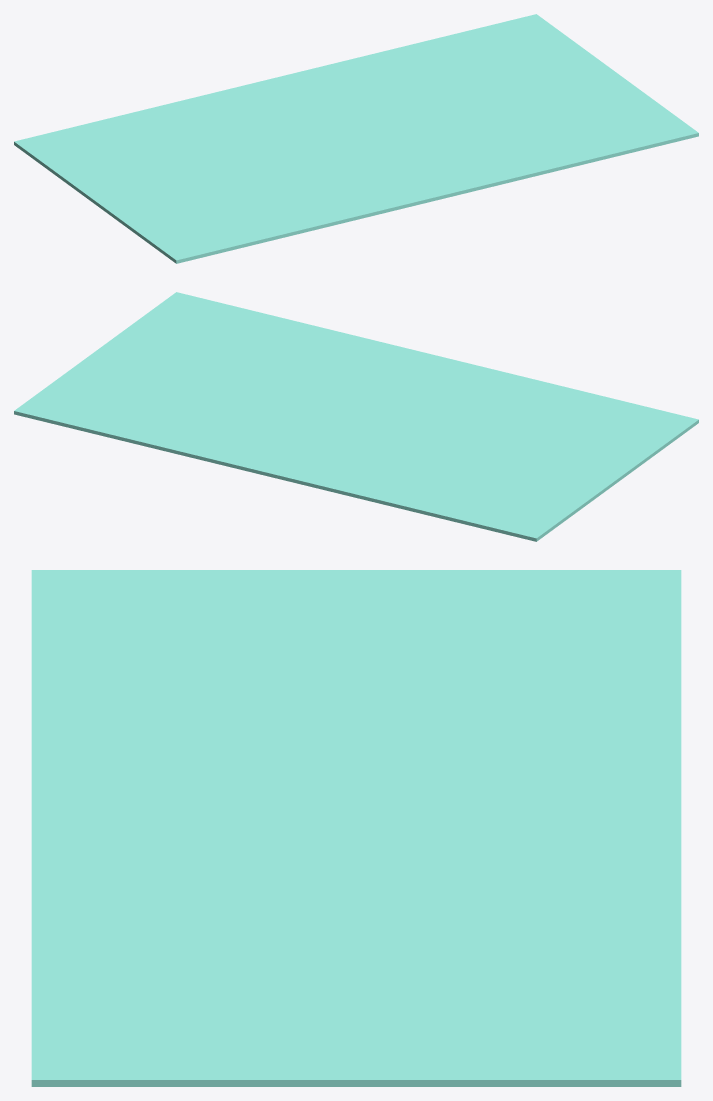
Rendered from brokenGlassSon.fbx.
The picture shows the model from 3 angles, top to bottom: view 1: azimuth 30°, elevation 25°; view 2: azimuth 150°, elevation 25°; view 3: azimuth 270°, elevation 25°; orthographic projection. The views are drawn at different scales.
Visible parts, largest first — view 1: Glass, Glass_cell.004, Glass_cell.001, Glass_cell.007, Glass_cell.009, Glass_cell.005, Glass_cell.006; view 2: Glass, Glass_cell.004, Glass_cell.001, Glass_cell.007, Glass_cell.005, Glass_cell.006, Glass_cell.009, Glass_cell.003, Glass_cell, Glass_cell.002; view 3: Glass, Glass_cell.004, Glass_cell.001, Glass_cell.007, Glass_cell.009, Glass_cell.006, Glass_cell.005, Glass_cell.008, Glass_cell.003, Glass_cell.
Part boxes in pixels (x1,y1,x2,y2): Glass: (14,14,633,263); Glass_cell.004: (89,173,386,263); Glass_cell.001: (466,94,698,177); Glass_cell.007: (330,129,528,212); Glass_cell.009: (256,130,348,167); Glass_cell.005: (530,75,645,104); Glass_cell.006: (14,142,236,199); Glass: (14,323,690,541); Glass_cell.004: (434,368,698,475); Glass_cell.001: (124,292,345,383); Glass_cell.007: (279,333,488,411); Glass_cell.005: (95,330,261,394); Glass_cell.006: (348,450,611,541); Glass_cell.009: (334,410,448,494); Glass_cell.003: (14,391,267,434); Glass_cell: (96,400,288,460); Glass_cell.002: (209,426,334,492); Glass: (31,570,681,1086); Glass_cell.004: (31,570,378,774); Glass_cell.001: (31,911,339,1086); Glass_cell.007: (31,773,337,914); Glass_cell.009: (259,722,472,812); Glass_cell.006: (381,570,484,725); Glass_cell.005: (241,914,485,1086); Glass_cell.008: (334,809,415,869); Glass_cell.003: (365,905,673,1086); Glass_cell: (386,875,456,925).
Bounding box in the file's own units: 1300 × 8.27 × 700.
